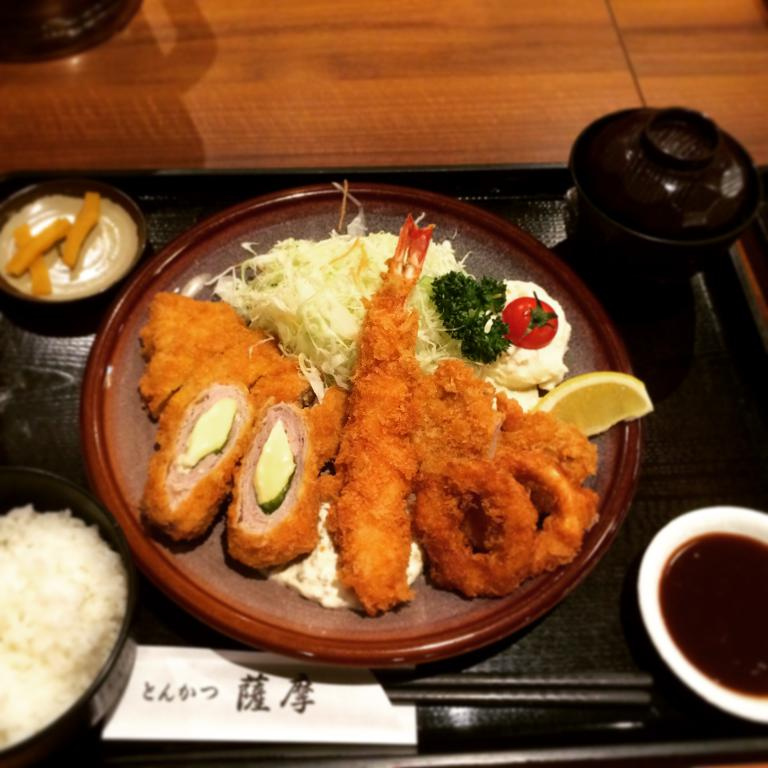Tomato: (501, 289, 558, 348)
